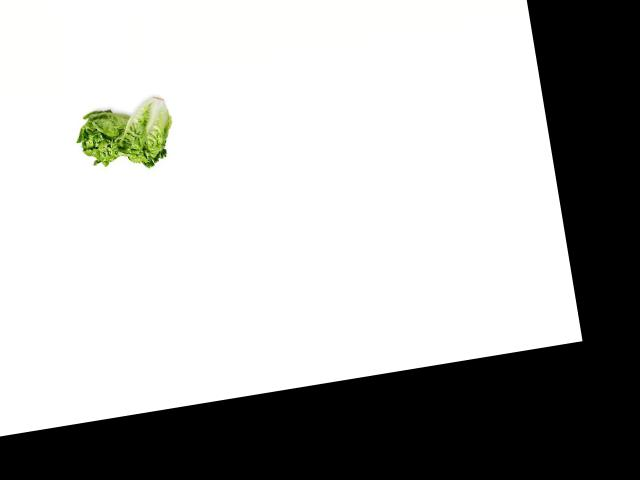lettuce: (71, 97, 141, 170)
